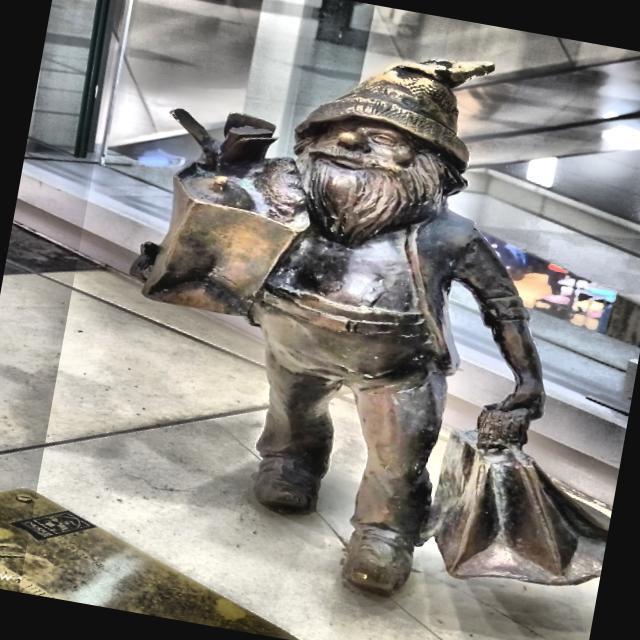Trendus: (128, 62, 610, 601)
